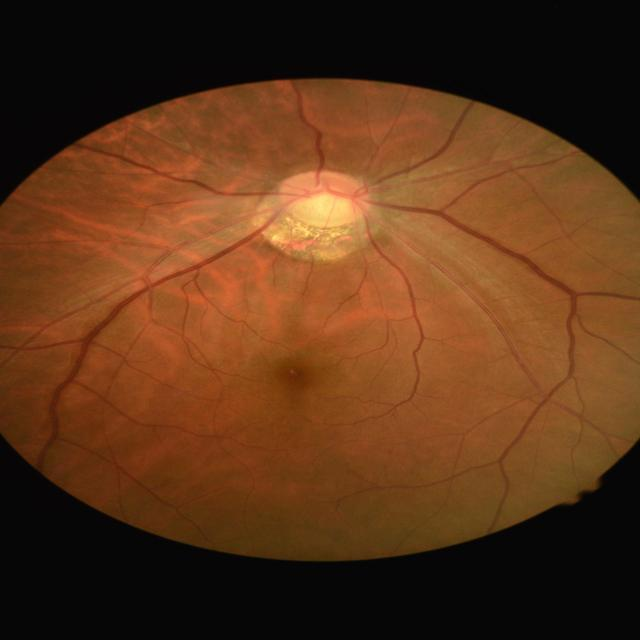cup: (296, 185, 354, 221)
disk: (283, 171, 371, 227)
